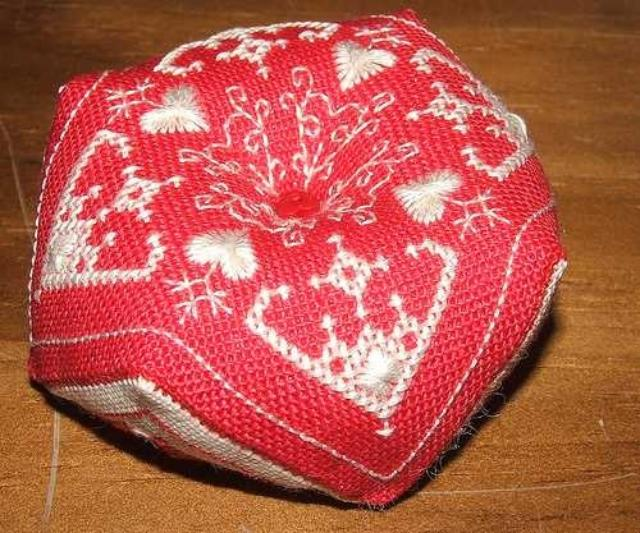pillow: (24, 7, 568, 511)
